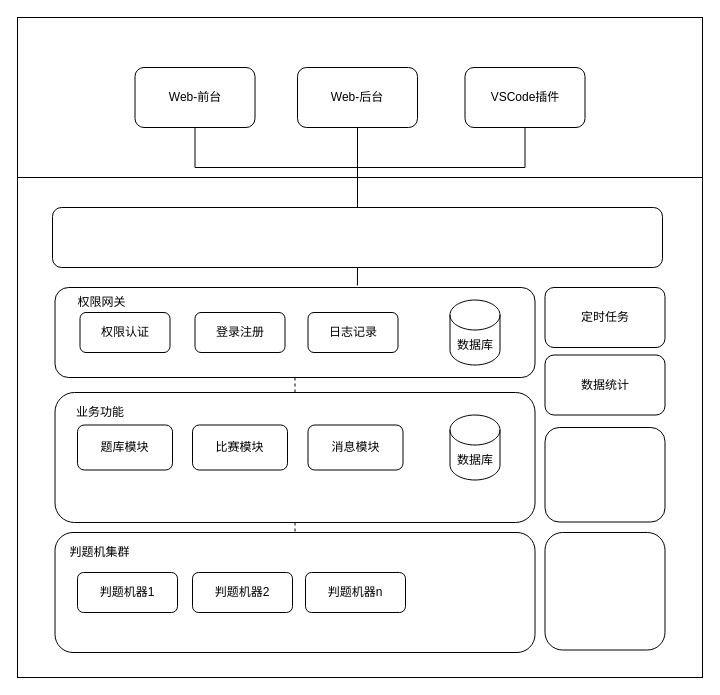
The diagram is 720 pixels wide and 695 high, and some of its shapes have lost their labels. The centre of each missing label's shape, as x and y in pixels:
"Niginx" goes at (357,237).
"redis" goes at (604,591).
"数据桶" goes at (604,474).
